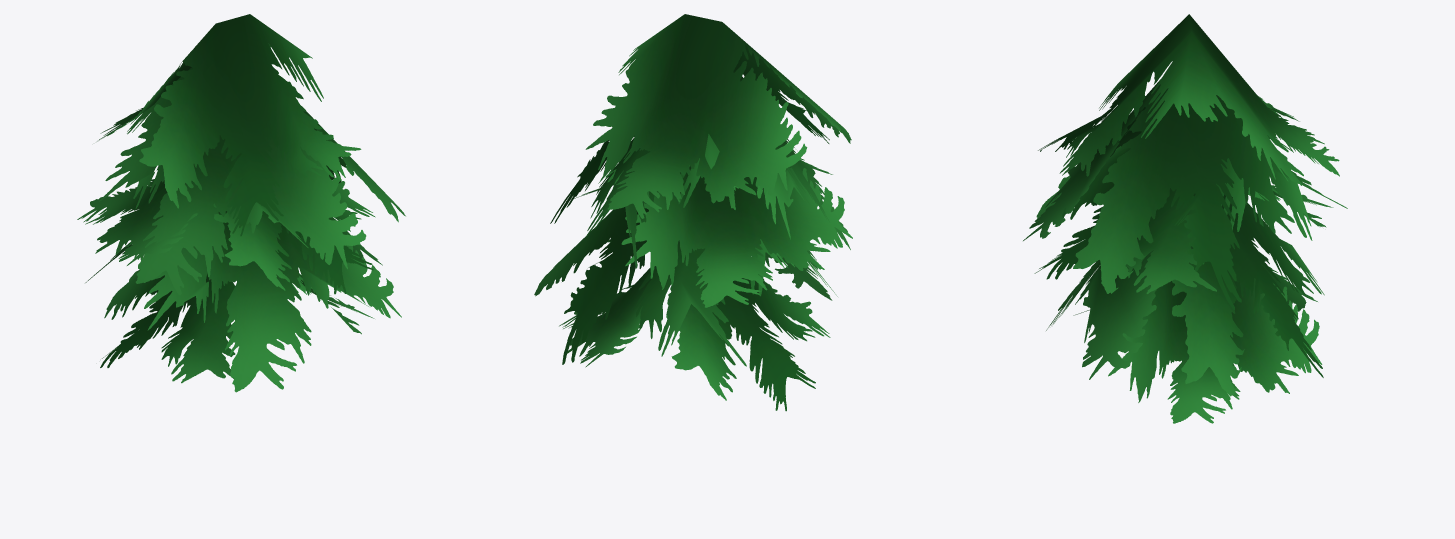
The model's file is Tree_leafs_v01.fbx.
The picture shows the model from 3 angles, left to right: view 1: azimuth 30°, elevation 25°; view 2: azimuth 150°, elevation 25°; view 3: azimuth 270°, elevation 25°; orthographic projection. The views are drawn at different scales.
Parts seen in each view (by area): view 1: Tree_top; view 2: Tree_top; view 3: Tree_top.
Part boxes in pixels (x1,y1,x2,y2): Tree_top: (77, 14, 405, 392); Tree_top: (534, 14, 852, 411); Tree_top: (1023, 14, 1347, 423).
Size of the model in its own units: 432 by 409 by 432.
